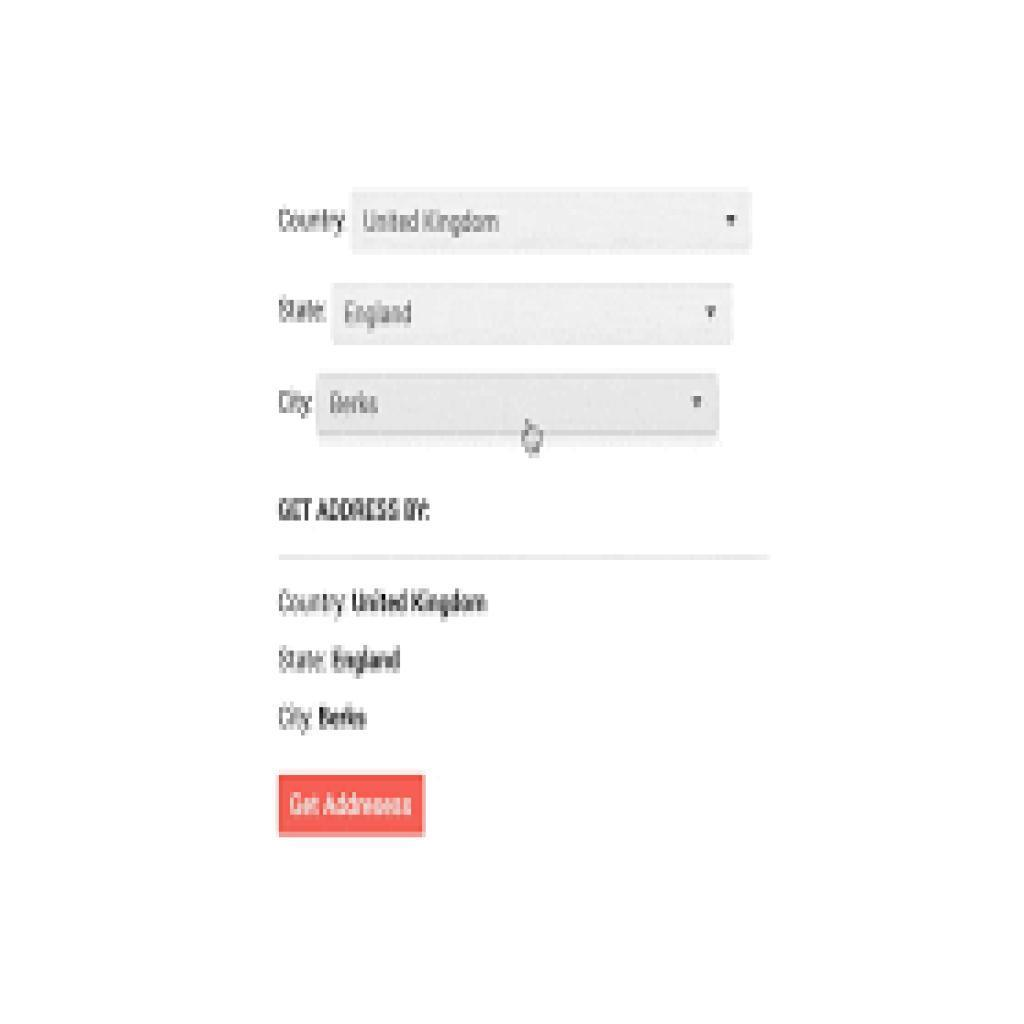button: (278, 776, 427, 838)
dropdown: (353, 189, 755, 257), (321, 373, 722, 438), (337, 280, 737, 345)
